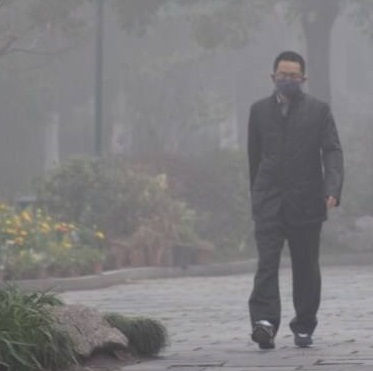person: (246, 50, 345, 350)
